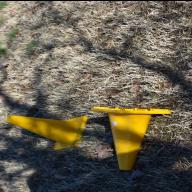cone: (90, 106, 172, 170), (6, 114, 88, 149)
